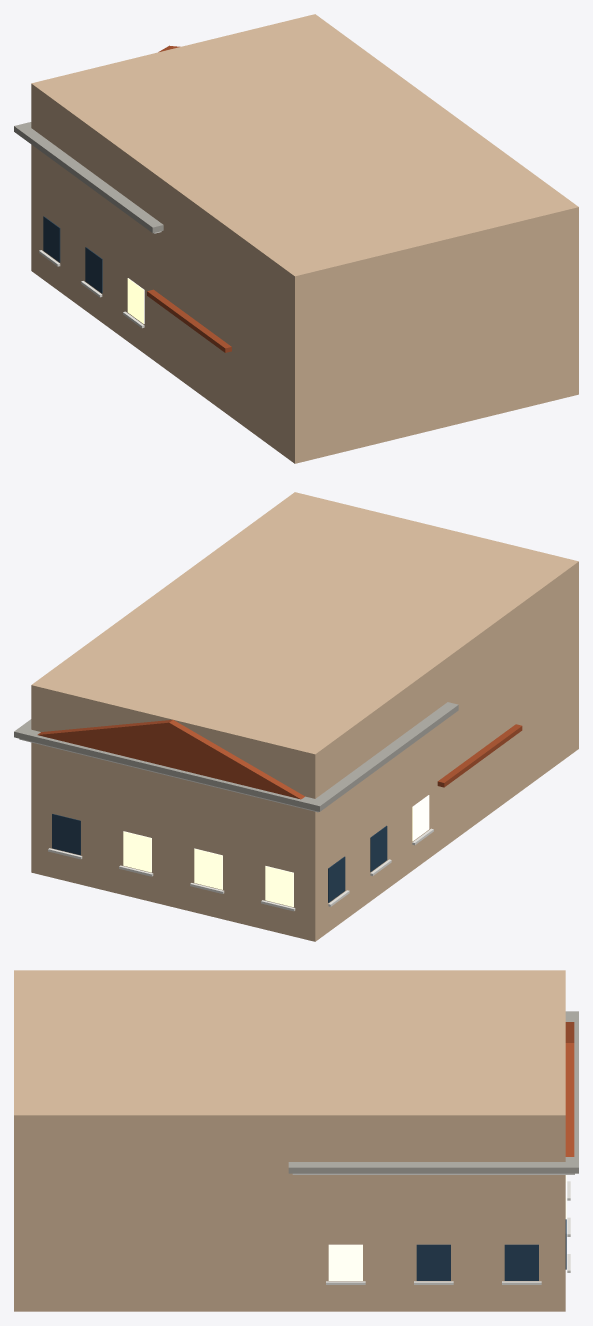
Rendered from BLD_House_A.fbx.
3 renders of one model, top to bottom at view 1: azimuth 30°, elevation 25°; view 2: azimuth 150°, elevation 25°; view 3: azimuth 270°, elevation 25°, orthographic. The views are drawn at different scales.
Visible parts, largest first — view 1: BLD_House_A__COL_Main, BLD_House_A__BODY; view 2: BLD_House_A__COL_Main, BLD_House_A__BODY; view 3: BLD_House_A__COL_Main, BLD_House_A__BODY.
Boxes of the visible parts, box(x1,y1,x2,y2) form: BLD_House_A__COL_Main: box(31, 14, 578, 463); BLD_House_A__BODY: box(14, 45, 231, 414); BLD_House_A__COL_Main: box(31, 492, 578, 940); BLD_House_A__BODY: box(14, 702, 522, 941); BLD_House_A__COL_Main: box(14, 970, 565, 1311); BLD_House_A__BODY: box(288, 1011, 578, 1311).
Size of the model in its own units: 14 by 8.2 by 21.4.
